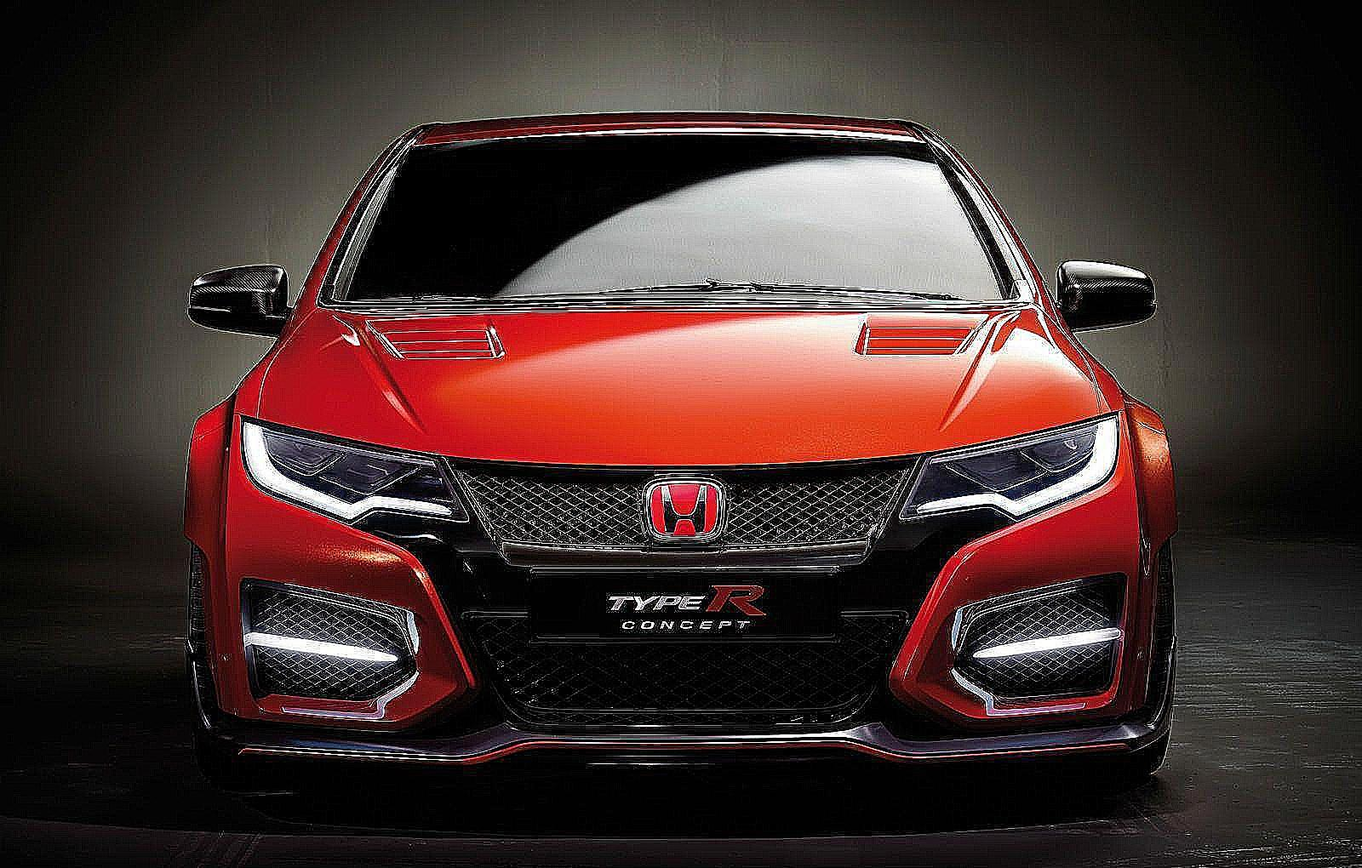Car hood: (250, 301, 1110, 466)
Front bumper: (178, 458, 1180, 774)
Headlight - -L-: (899, 410, 1120, 526)
Headlight - -R-: (237, 416, 468, 531)
Side mirror - -L-: (1049, 258, 1160, 335)
Side mirror - -R-: (182, 267, 295, 338)
